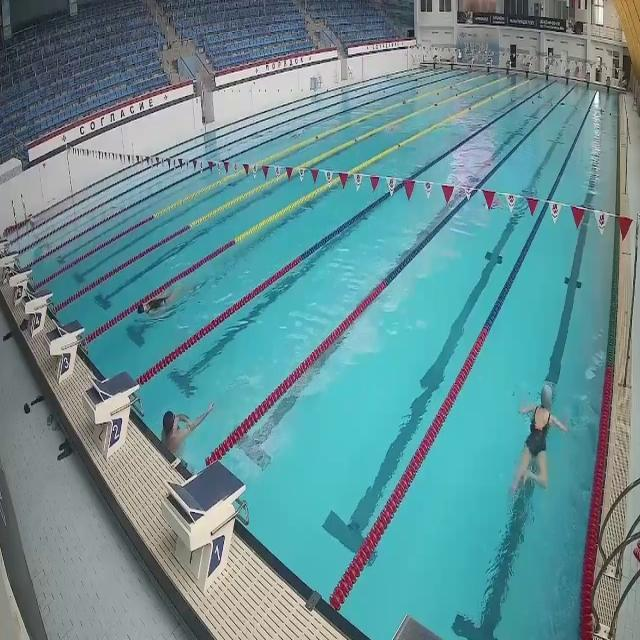Swimming: (511, 384, 568, 499), (160, 402, 216, 458), (137, 284, 187, 318)
